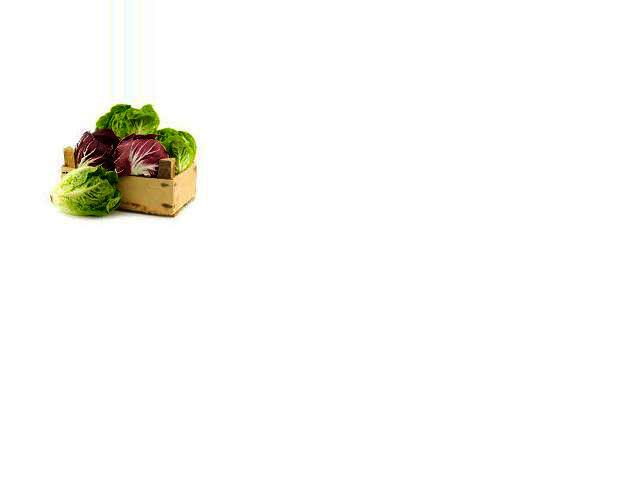lettuce: (78, 102, 228, 239)
